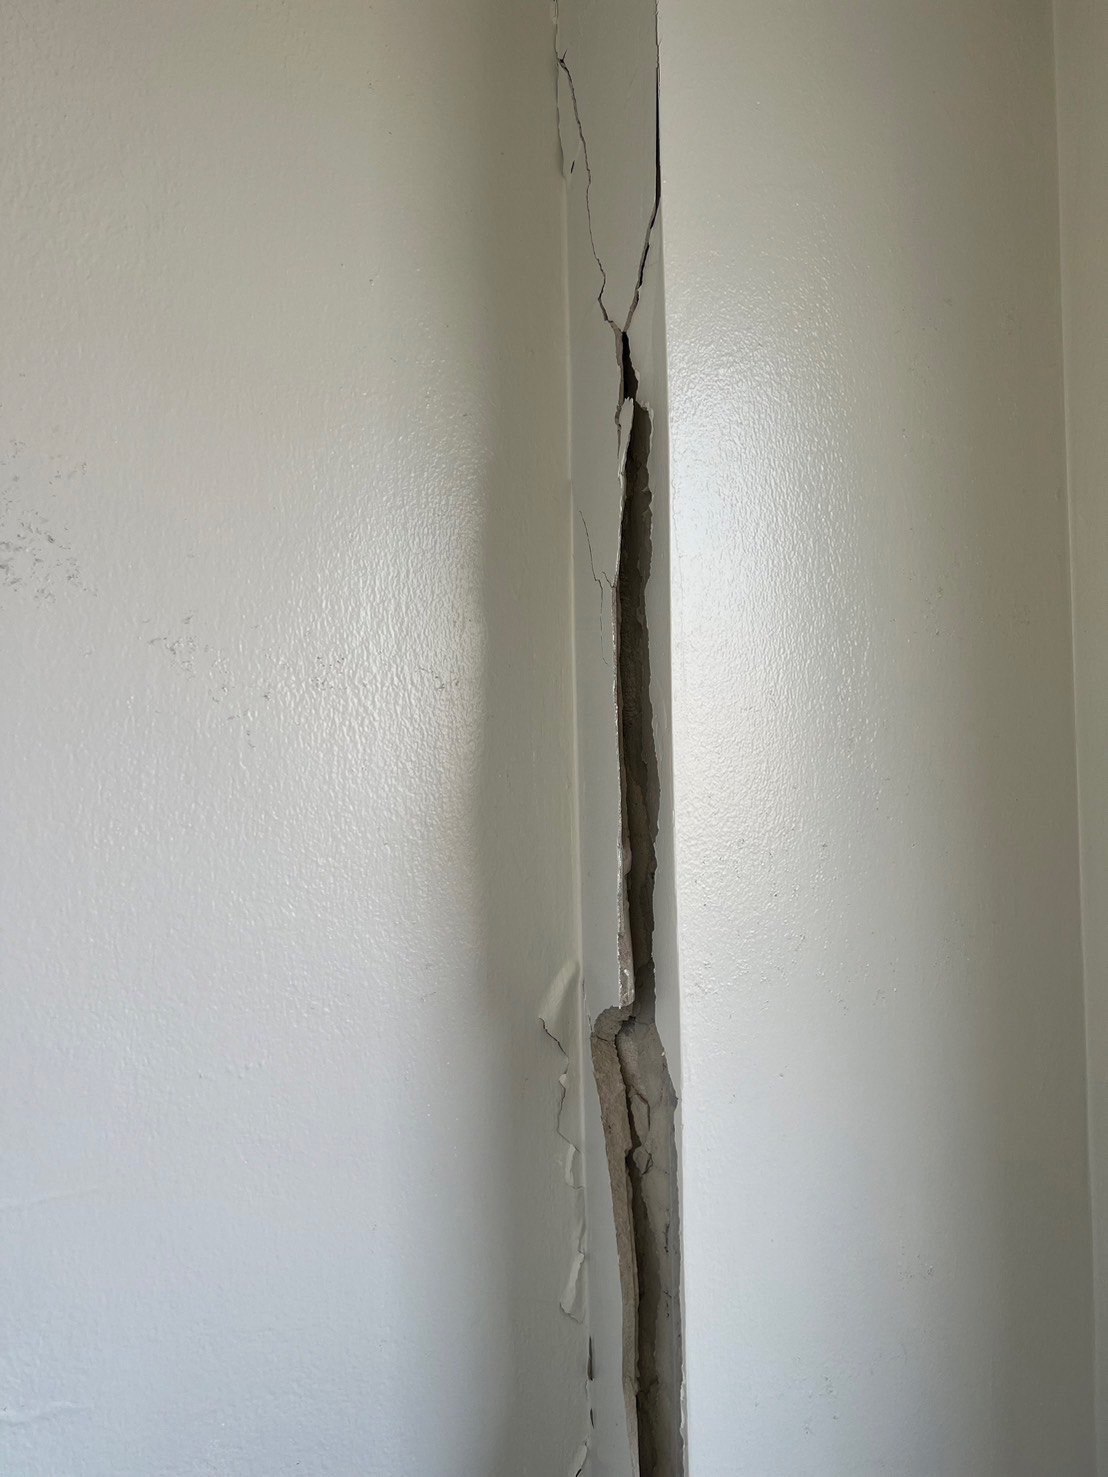High: (503, 31, 746, 1475)
